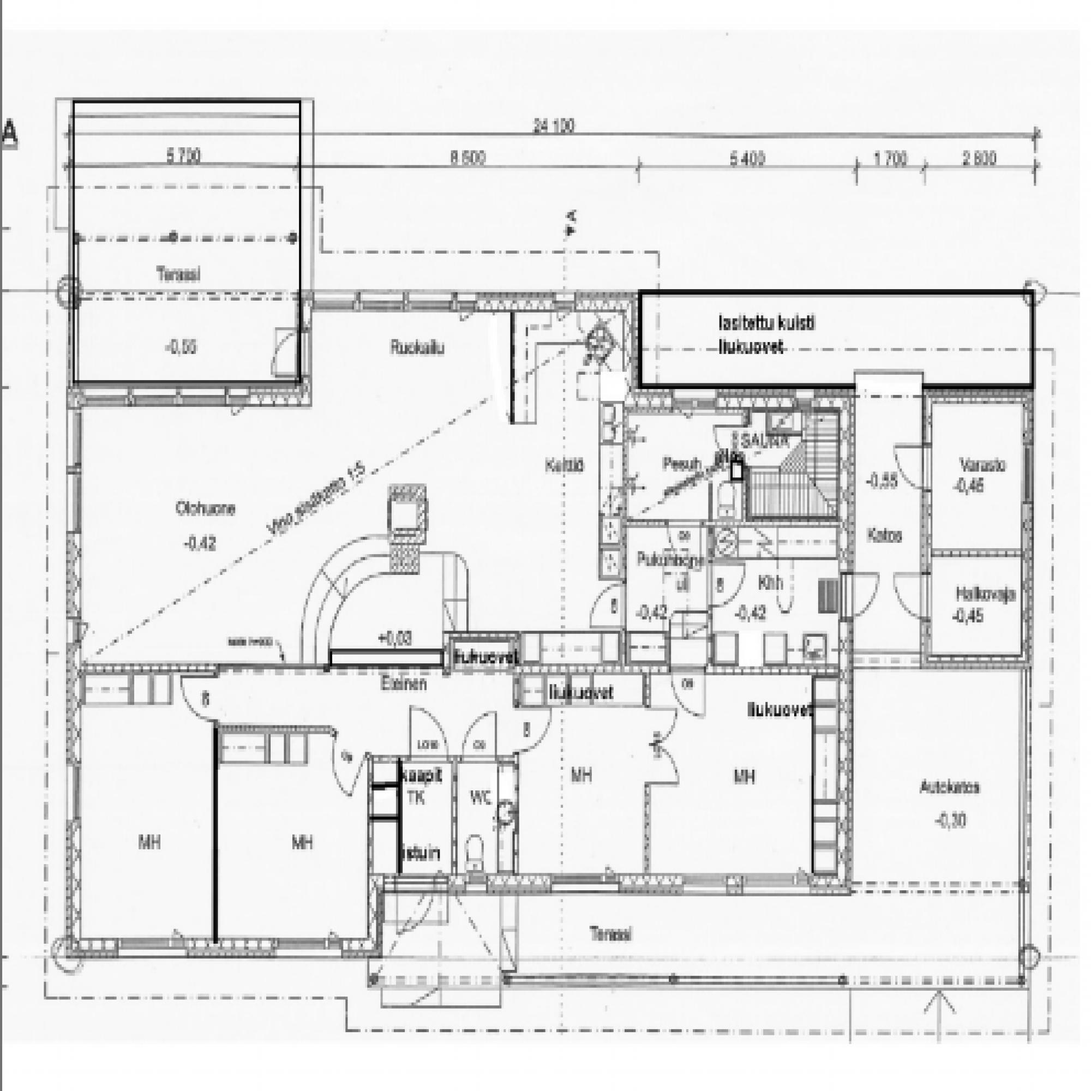wall: (367, 872, 855, 895), (835, 388, 855, 895), (68, 386, 81, 956), (301, 291, 638, 311), (623, 388, 855, 413), (68, 939, 382, 956), (68, 386, 313, 406), (513, 665, 855, 675), (1021, 388, 1033, 668), (921, 388, 932, 668), (623, 291, 638, 413), (213, 665, 219, 956), (331, 726, 374, 766), (922, 388, 1033, 403), (643, 665, 650, 895), (627, 520, 855, 527), (921, 654, 1033, 668), (389, 545, 443, 574), (301, 291, 313, 406), (68, 665, 219, 674), (367, 873, 382, 956), (623, 388, 627, 674), (367, 757, 518, 764), (367, 763, 374, 895), (707, 520, 713, 674), (743, 387, 749, 527), (443, 632, 518, 642), (213, 726, 333, 732), (513, 757, 518, 895), (452, 757, 457, 895), (513, 632, 518, 763), (921, 551, 1033, 556), (443, 632, 450, 674)
